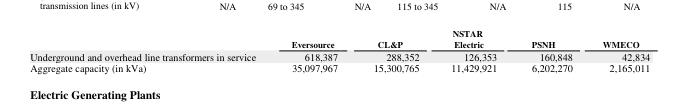table: (29, 28, 649, 73)
table column: (29, 28, 272, 73), (272, 28, 354, 73), (354, 28, 434, 73), (434, 28, 513, 73), (513, 28, 586, 73), (586, 28, 649, 73)
table column header: (29, 28, 649, 50)
table row: (29, 28, 649, 50), (29, 50, 649, 62), (29, 62, 649, 73)
